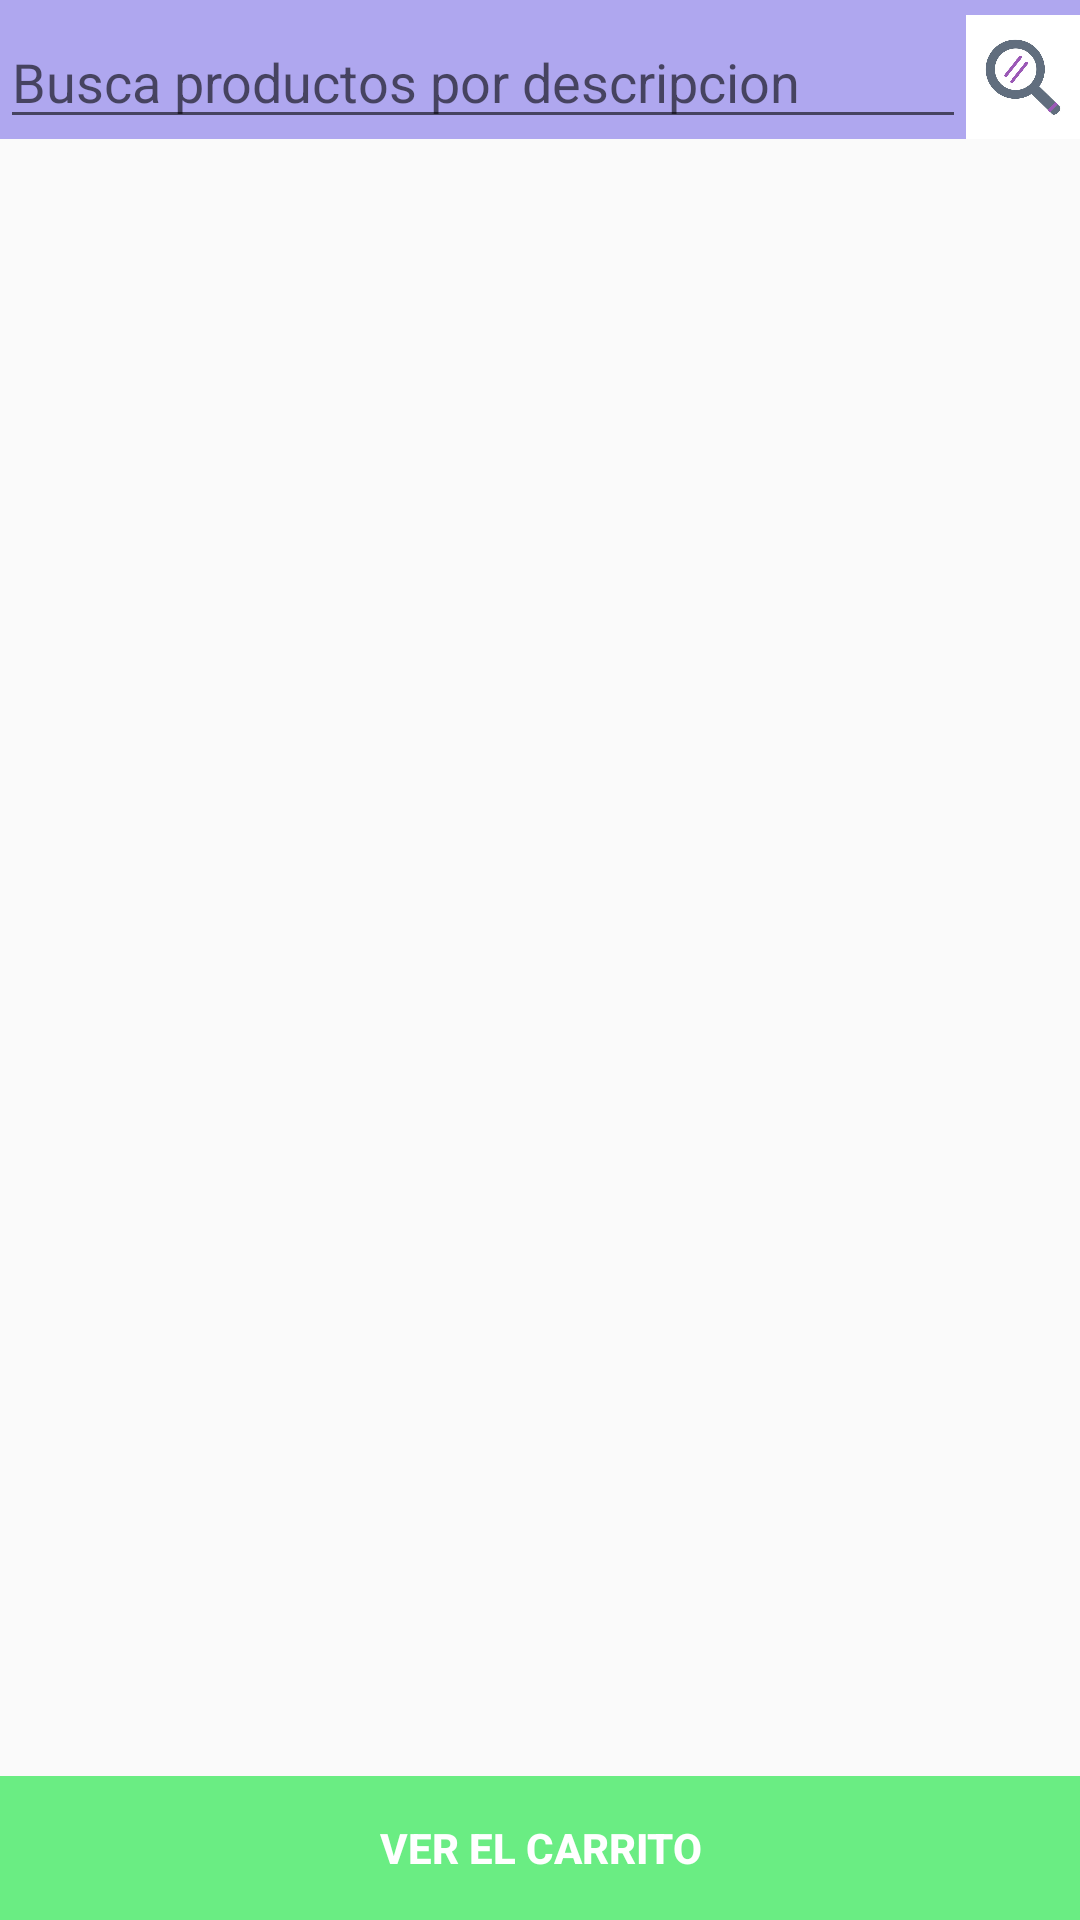

Where to tap for icons on this 1080×1920 app screen, as (x,y):
search: (1023,77)
